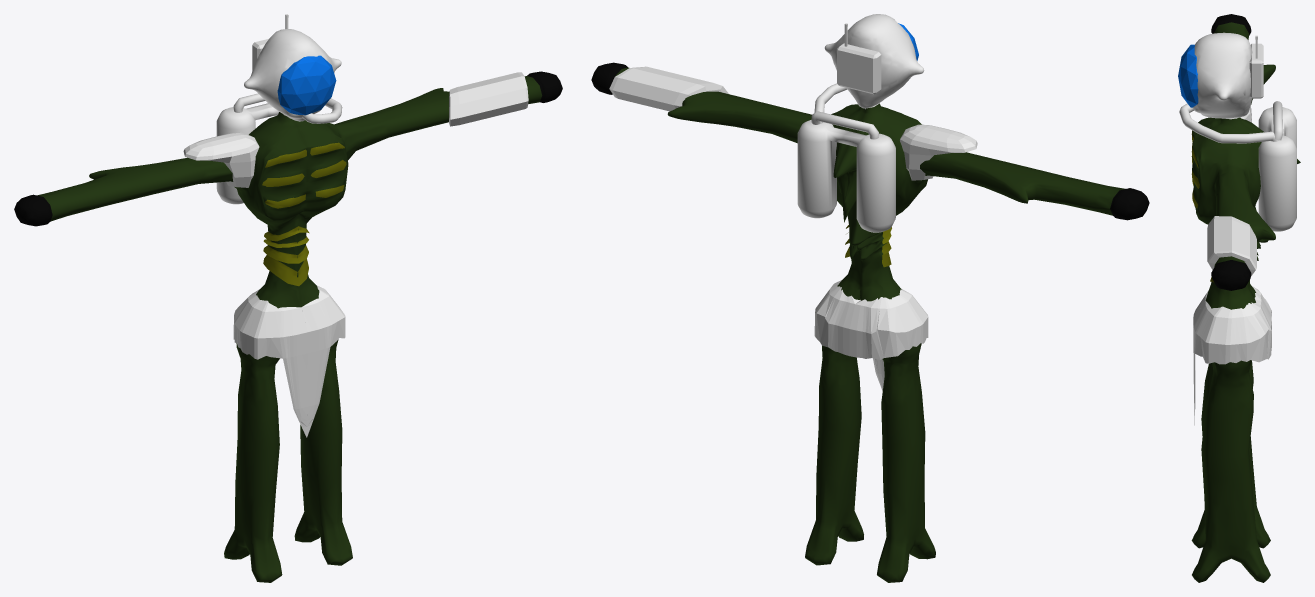
File: Gemokors.fbx
3 renders of one model, left to right at view 1: azimuth 30°, elevation 25°; view 2: azimuth 150°, elevation 25°; view 3: azimuth 270°, elevation 25°, orthographic. The views are drawn at different scales.
Visible parts, largest first — view 1: Cube, Vert, Cube.002, Icosphere, Cube.001, Cylinder, Vert.001; view 2: Cube, Cylinder, Vert, Cube.002, Cube.001, Cube.003, Vert.001; view 3: Cube, Vert, Cylinder, Cube.002, Vert.001, Icosphere, Cube.003.
Part boxes in pixels (left/top/right/bottom): Cube: left=14, top=29, right=562, bottom=582; Vert: left=233, top=285, right=345, bottom=437; Cube.002: left=449, top=72, right=528, bottom=126; Icosphere: left=277, top=55, right=336, bottom=115; Cube.001: left=183, top=132, right=259, bottom=187; Cylinder: left=216, top=103, right=278, bottom=204; Vert.001: left=233, top=93, right=342, bottom=123; Cube: left=591, top=14, right=1149, bottom=582; Cylinder: left=797, top=120, right=895, bottom=232; Vert: left=814, top=280, right=928, bottom=390; Cube.002: left=609, top=66, right=728, bottom=111; Cube.001: left=900, top=124, right=977, bottom=180; Cube.003: left=837, top=23, right=881, bottom=94; Vert.001: left=811, top=83, right=878, bottom=139; Cube: left=1191, top=14, right=1300, bottom=582; Vert: left=1193, top=286, right=1271, bottom=425; Cylinder: left=1258, top=107, right=1296, bottom=231; Cube.002: left=1207, top=216, right=1256, bottom=276; Vert.001: left=1179, top=101, right=1283, bottom=143; Icosphere: left=1178, top=44, right=1198, bottom=107; Cube.003: left=1249, top=35, right=1263, bottom=98.
Size of the model in its own units: 908 by 858 by 180.
